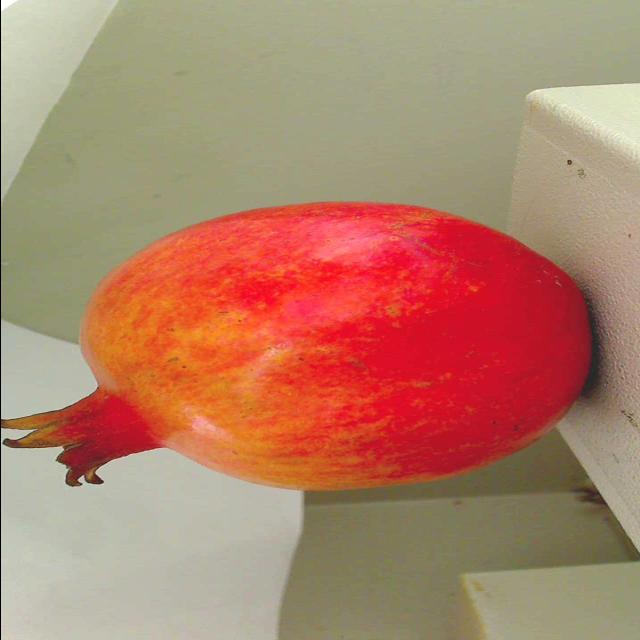pomegranate: (0, 197, 622, 517)
